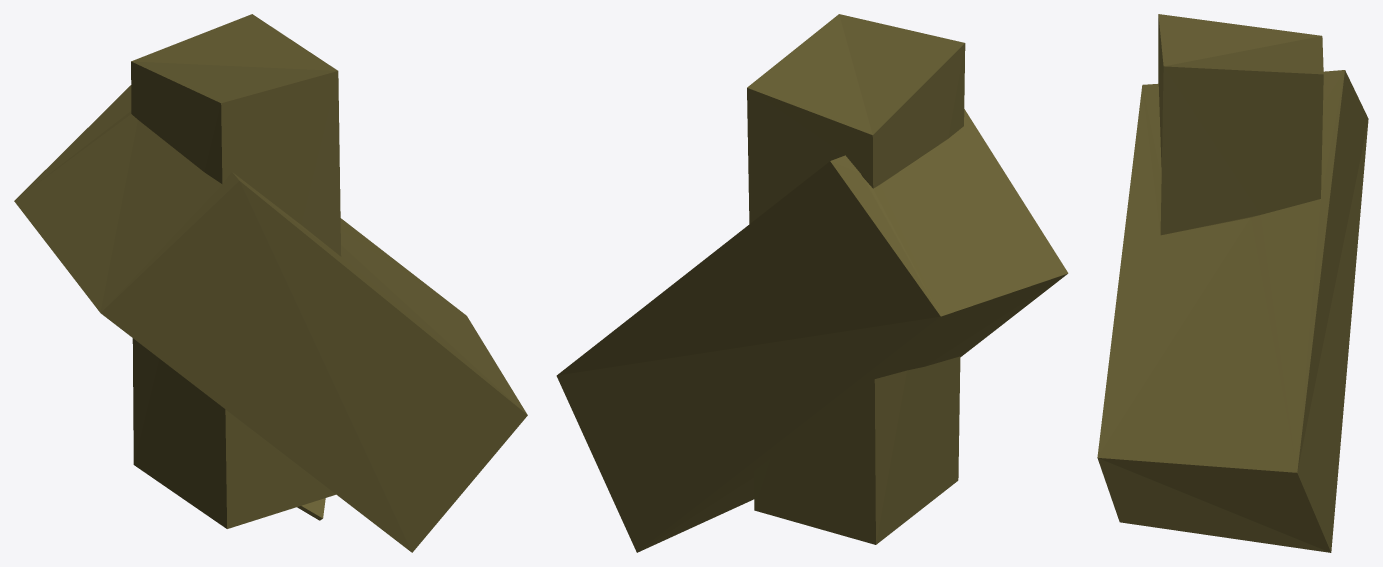
3 views of the same model, side by side, from view 1: azimuth 30°, elevation 25°; view 2: azimuth 150°, elevation 25°; view 3: azimuth 270°, elevation 25° (orthographic). The views are drawn at different scales.
Parts seen in each view (by area): view 1: 970_Cube.3921; view 2: 970_Cube.3921; view 3: 970_Cube.3921.
Part boxes in pixels (x1,y1,x2,y2): 970_Cube.3921: (14,14,527,552); 970_Cube.3921: (556,14,1068,552); 970_Cube.3921: (1097,14,1368,552).
Bounding box in the file's own units: 12.74 × 13.59 × 7.59.
